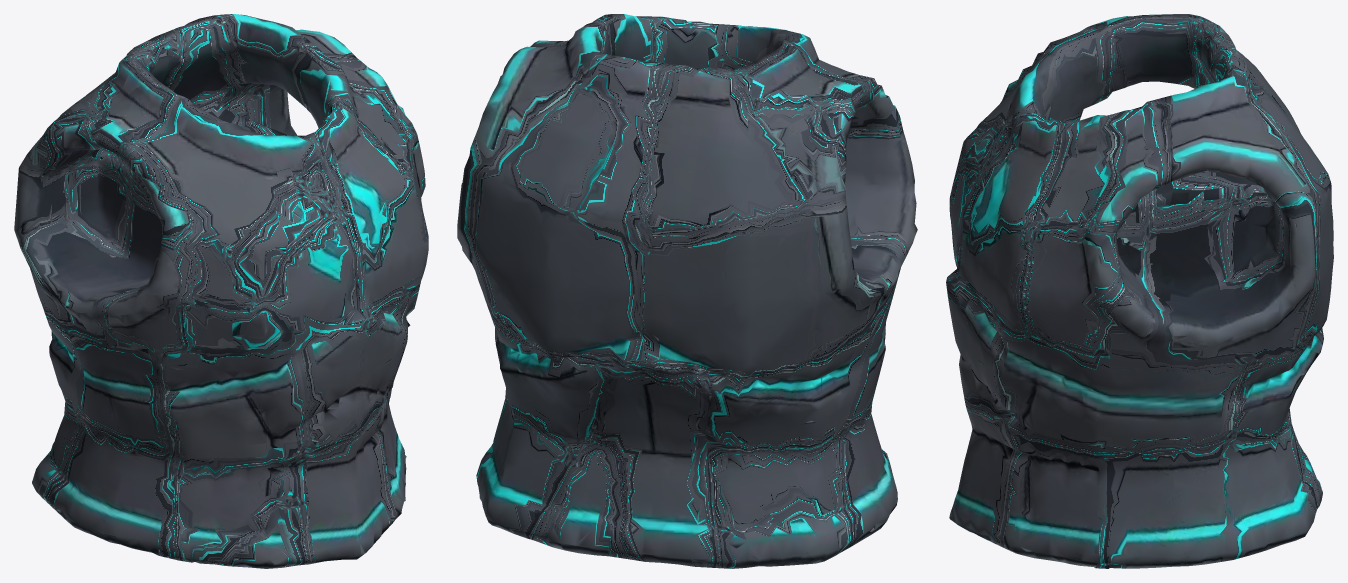
Rendered from vanguard_chest.glb.
3 renders of one model, left to right at view 1: azimuth 30°, elevation 25°; view 2: azimuth 150°, elevation 25°; view 3: azimuth 270°, elevation 25°, orthographic. The views are drawn at different scales.
Size of the model in its own units: 0.3374 by 0.402 by 0.3099.
1 material, 1 textured.
